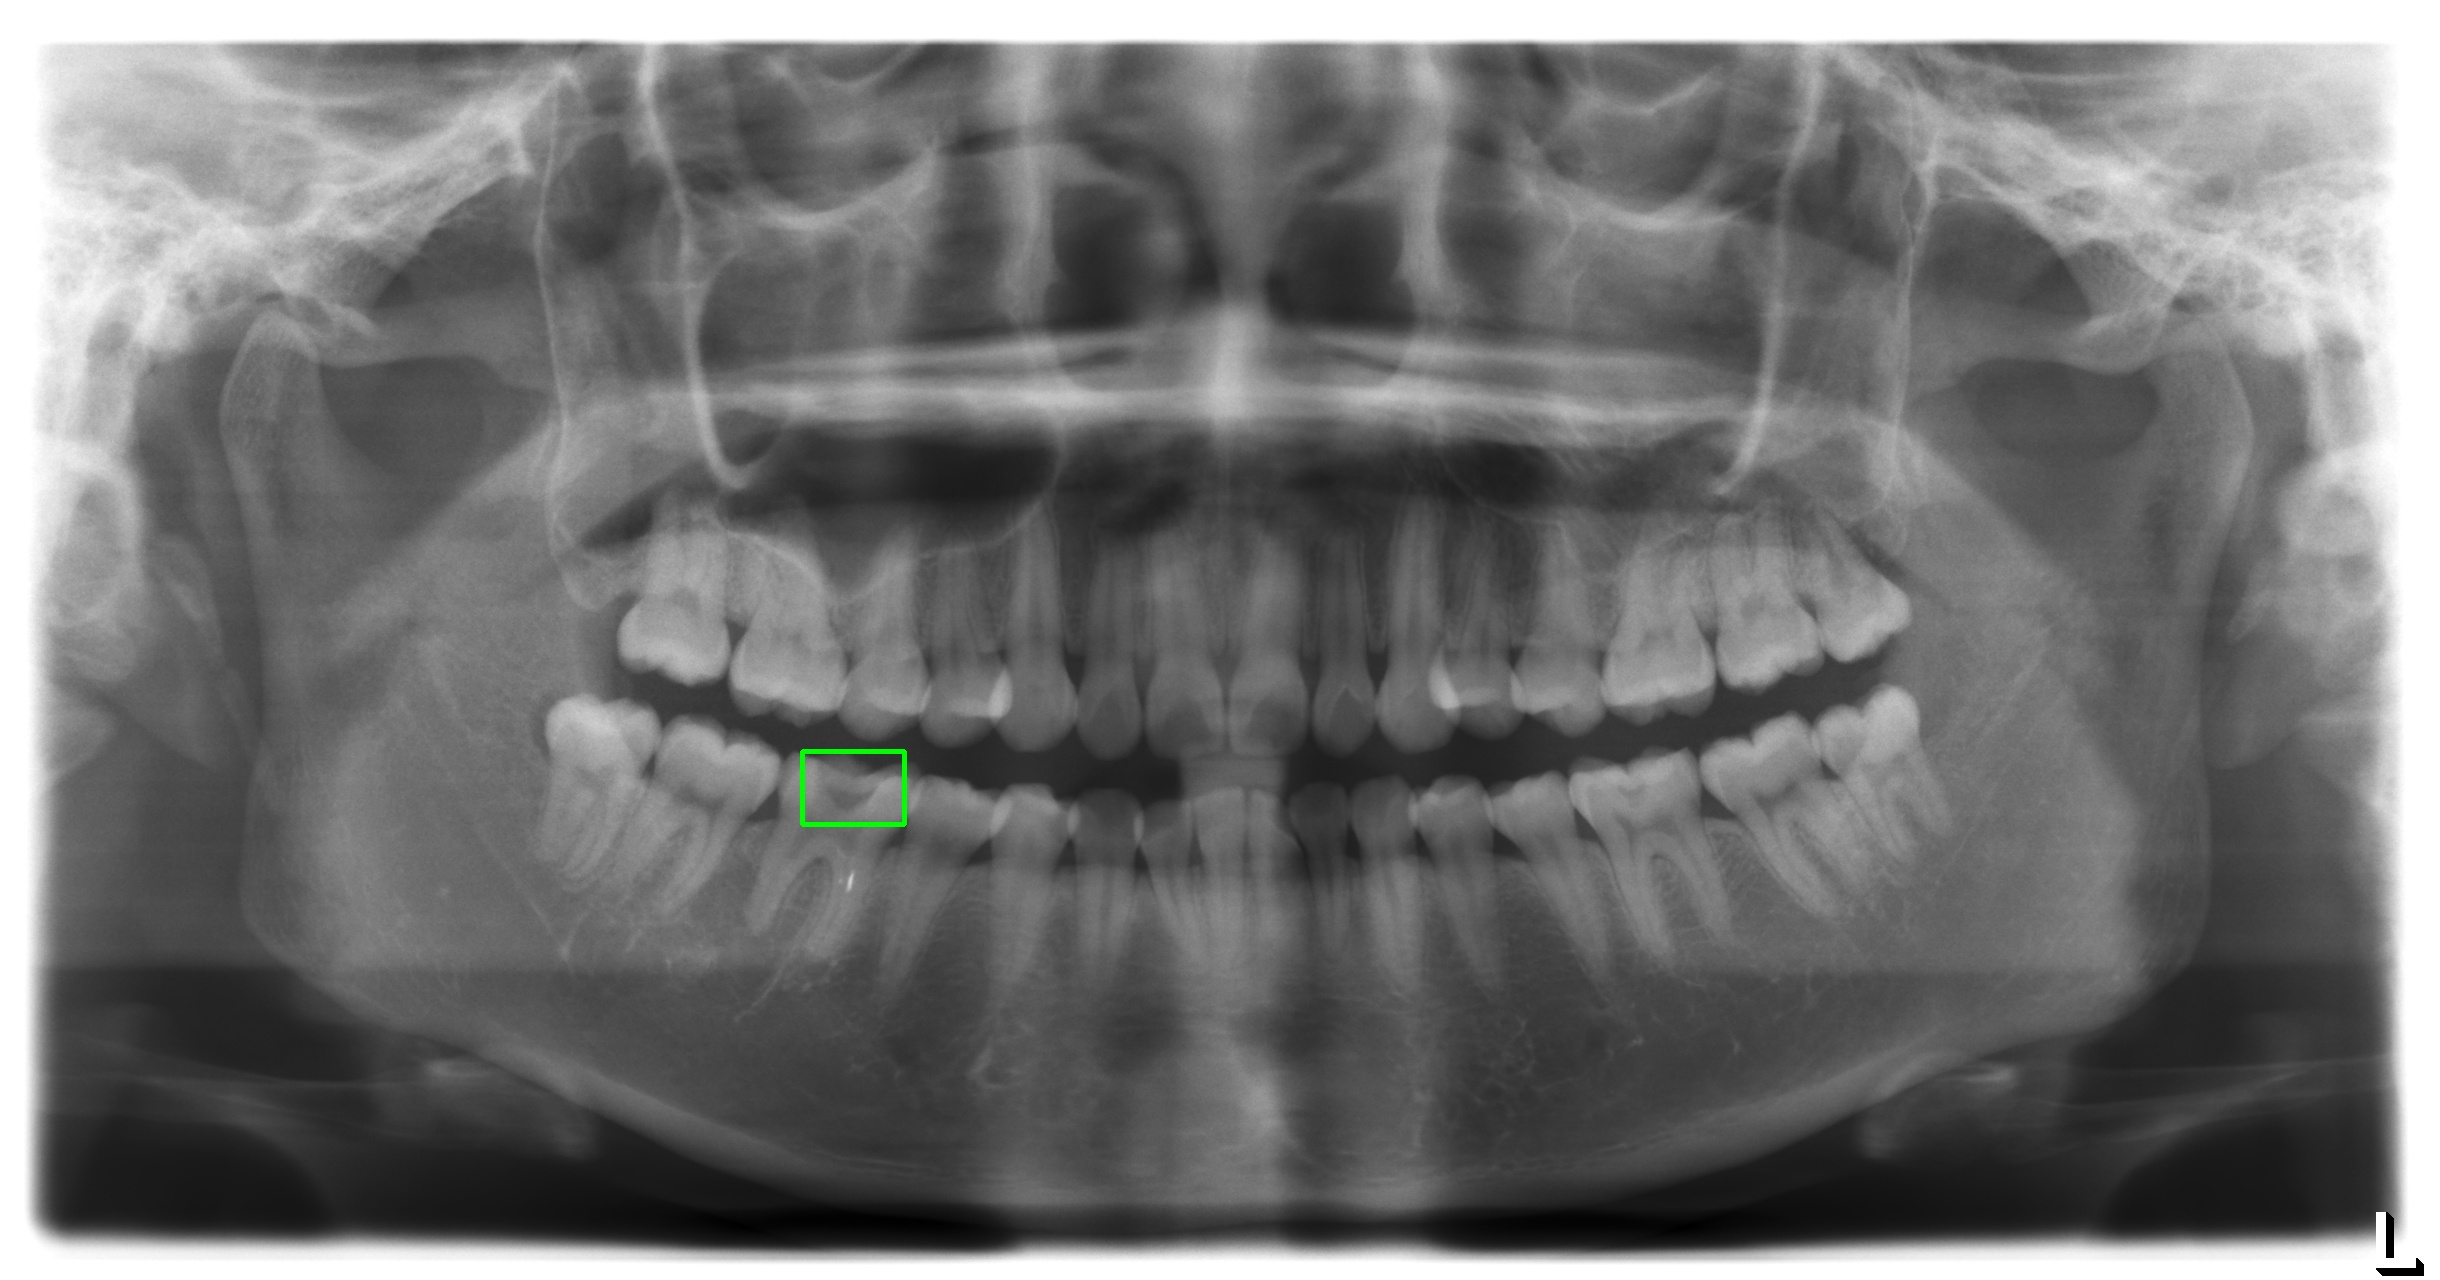Decay: (802, 751, 904, 823)
